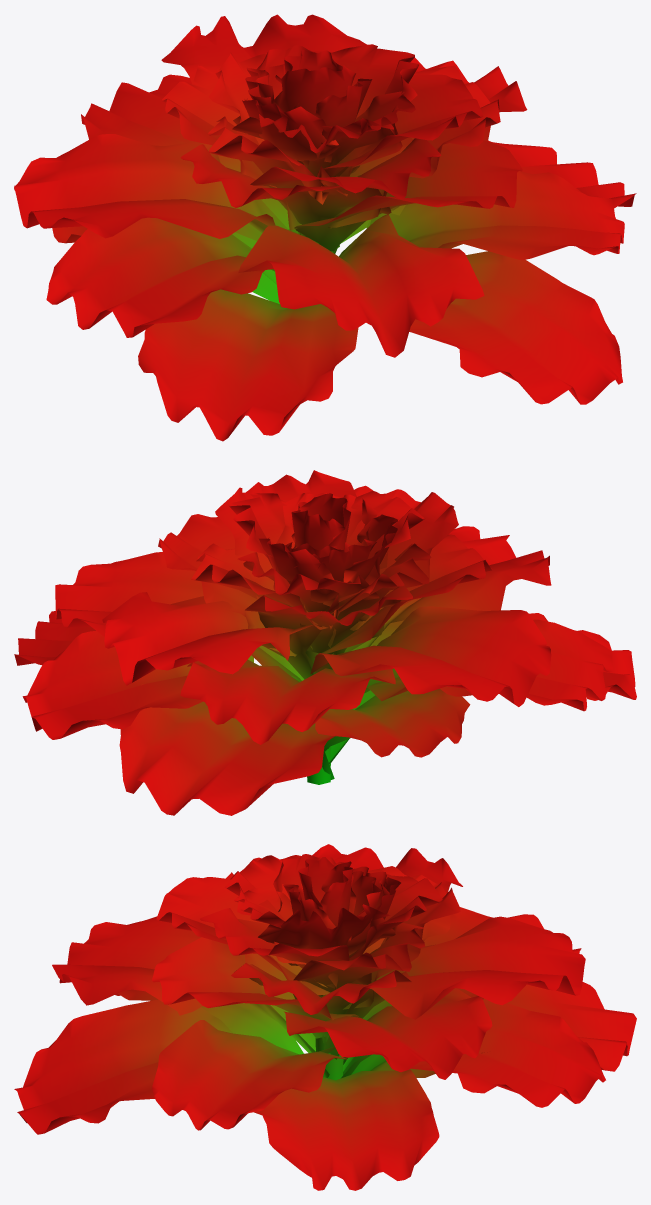
The model's file is Purple Ornamental Kale_LOD0_Var4_ugdieawja.fbx.
3 renders of one model, top to bottom at view 1: azimuth 30°, elevation 25°; view 2: azimuth 150°, elevation 25°; view 3: azimuth 270°, elevation 25°, orthographic. The views are drawn at different scales.
Parts seen in each view (by area): view 1: _3c83_Var4_LOD0; view 2: _3c83_Var4_LOD0; view 3: _3c83_Var4_LOD0.
Part boxes in pixels (<box>): _3c83_Var4_LOD0: <box>14,14,636,441</box>; _3c83_Var4_LOD0: <box>14,470,636,815</box>; _3c83_Var4_LOD0: <box>14,844,636,1190</box>.
Bounding box in the file's own units: 51.6 × 25.35 × 53.87.
